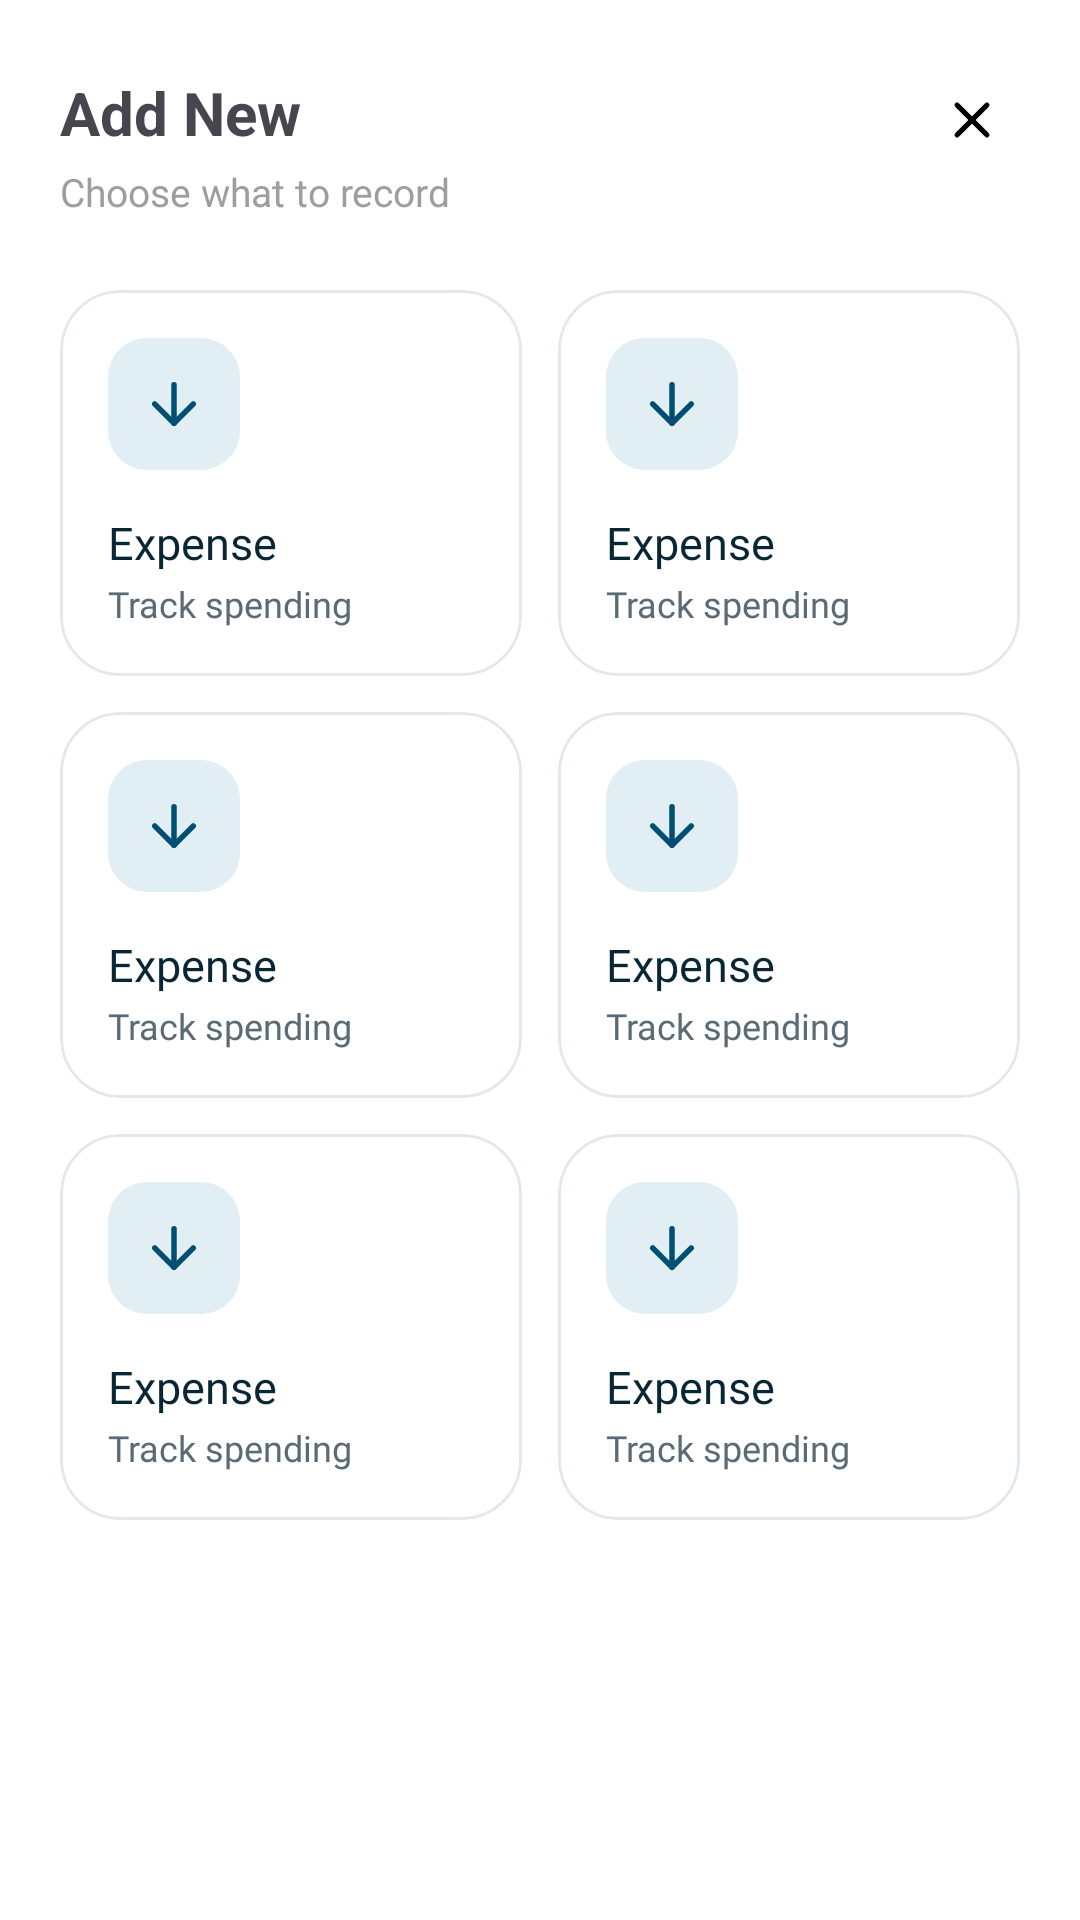

Point at icon controls on the screen. Image size 1080px×1920px, points as (x,y).
closed: (972,120)
